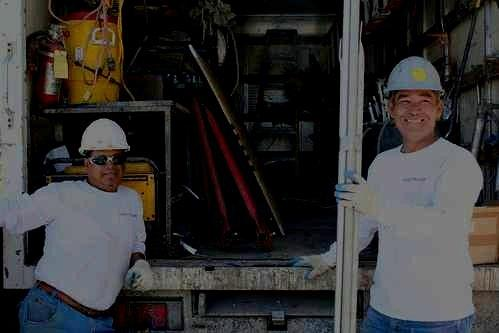helmet: (383, 56, 445, 139), (79, 118, 130, 186)
